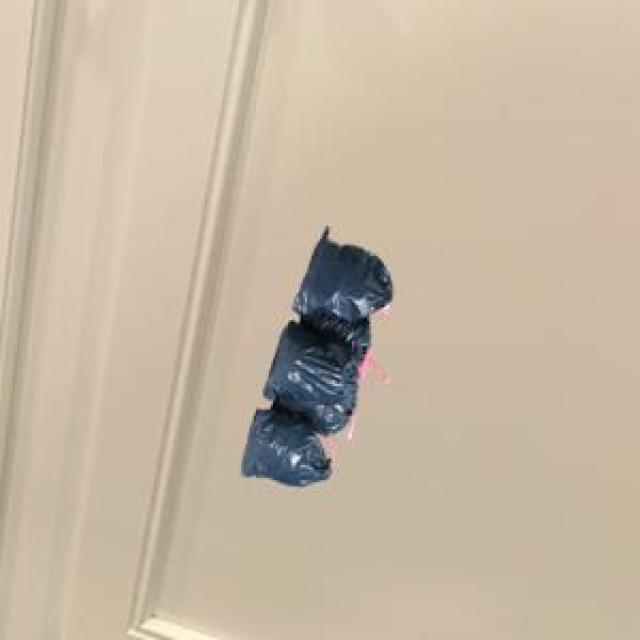miscellaneous trash: (237, 224, 388, 482)
